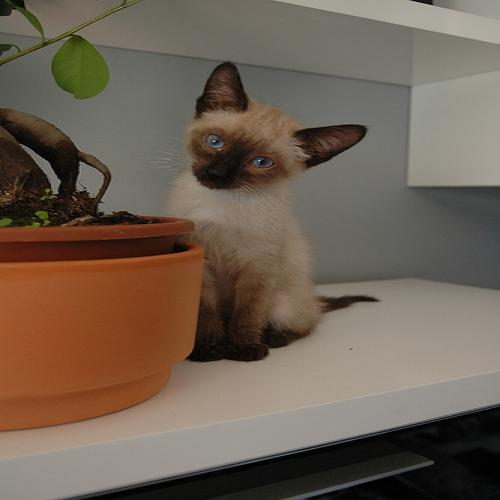siamese: (150, 58, 377, 208)
